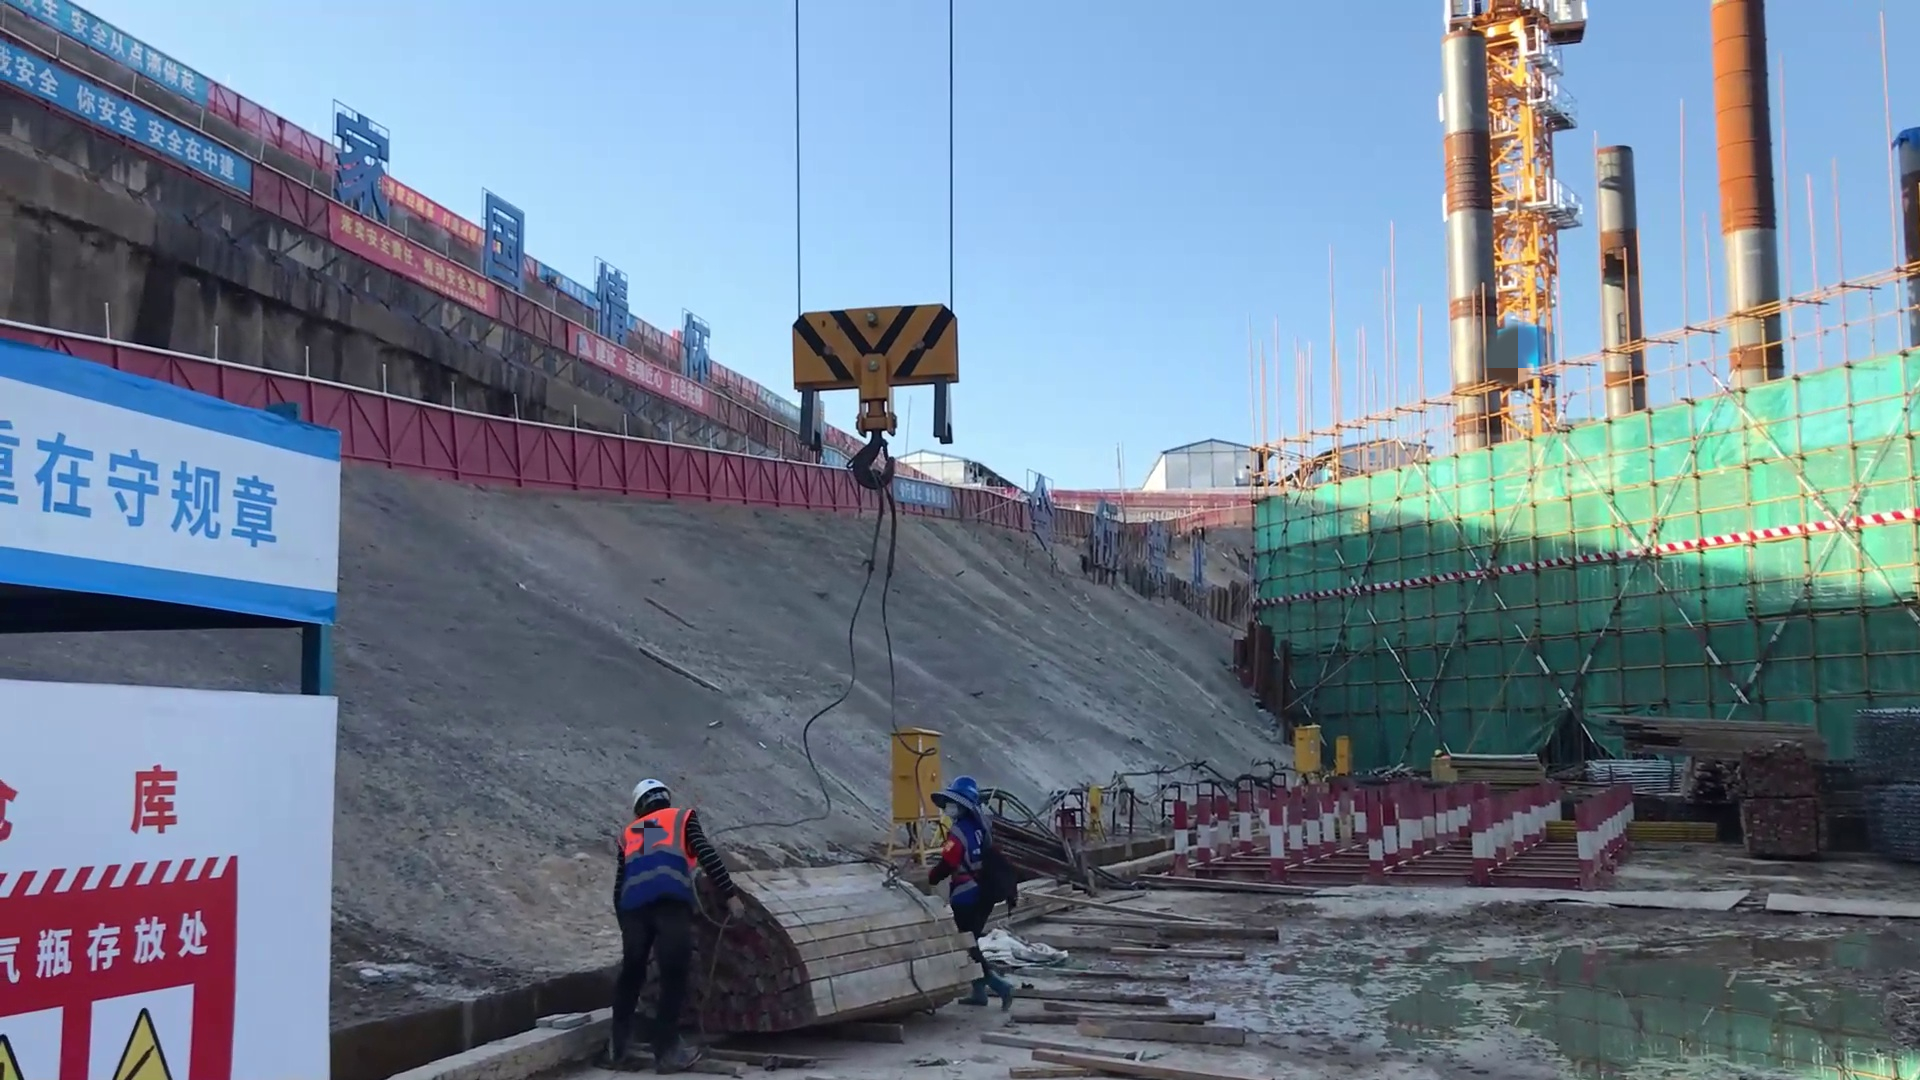ebox: (848, 702, 945, 816), (1291, 724, 1323, 769), (1336, 730, 1351, 770)
fence: (325, 389, 722, 505), (721, 453, 841, 513)
helmet: (624, 769, 668, 822), (947, 773, 984, 818)
hook: (790, 285, 956, 446)
person: (604, 773, 719, 1077), (917, 771, 1026, 1015)
scaffold: (1829, 698, 1920, 852)
slogan: (1, 420, 285, 592), (33, 861, 255, 1080), (1, 55, 263, 216), (35, 1, 236, 120), (327, 204, 501, 331)
vest: (616, 813, 685, 861)
wood: (717, 860, 930, 1045), (1049, 883, 1244, 1080), (1588, 702, 1808, 772)
